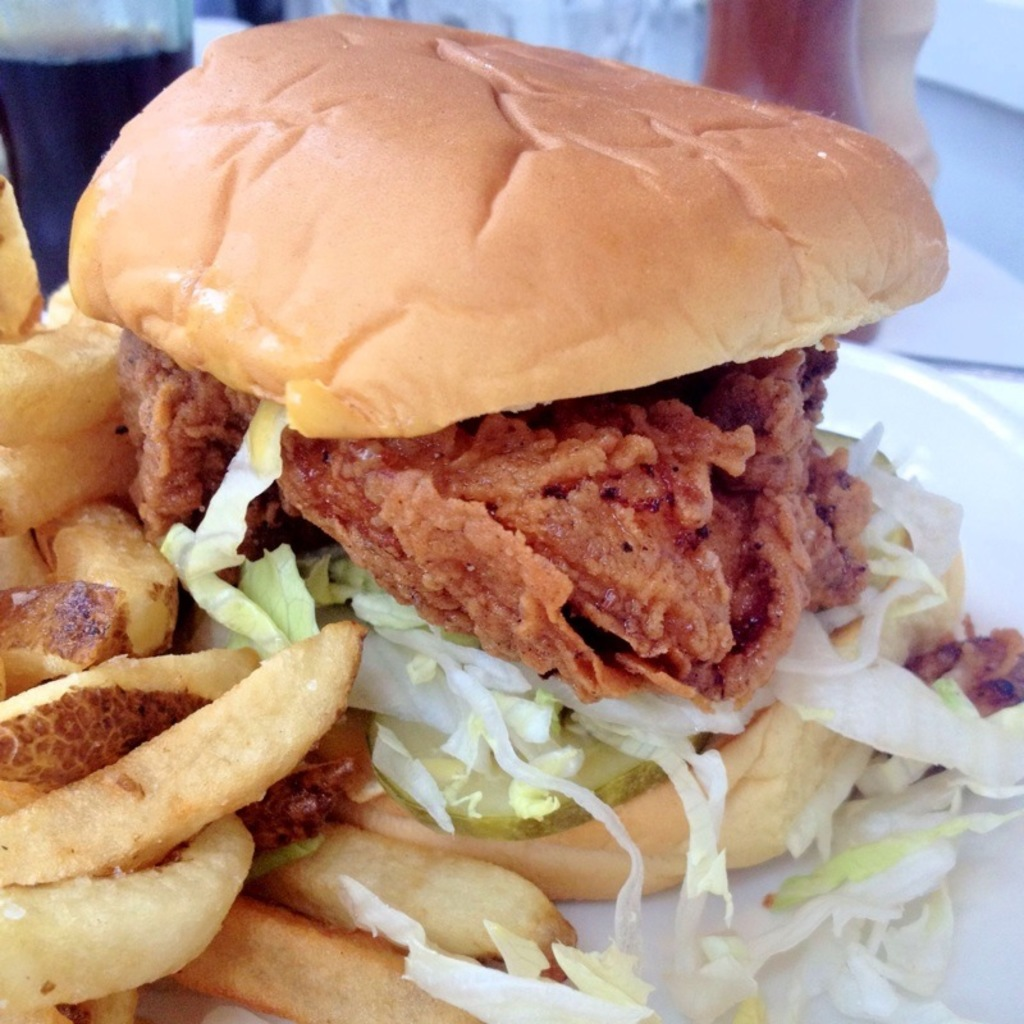French fries: (0, 610, 367, 876), (0, 807, 262, 1009), (254, 839, 579, 974), (160, 902, 503, 1022), (0, 646, 267, 785), (39, 494, 177, 647), (0, 687, 221, 780), (0, 305, 134, 446), (0, 409, 143, 535), (0, 572, 128, 691), (0, 168, 47, 341)
